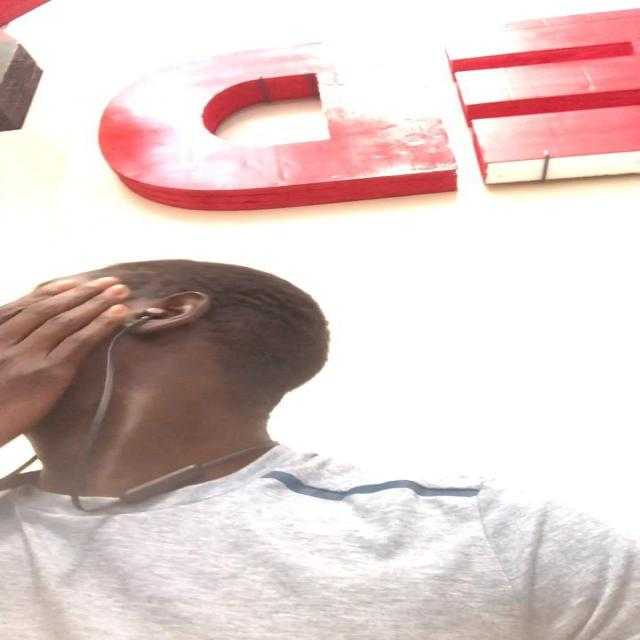face: (1, 266, 171, 436)
